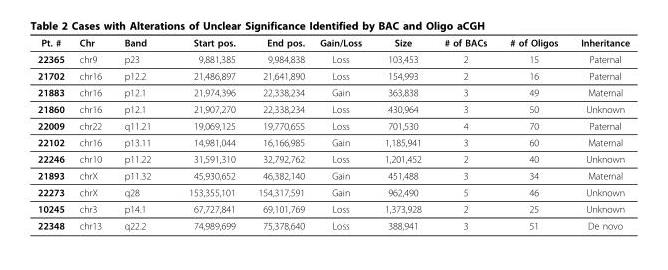table: (37, 36, 629, 230)
table column: (169, 36, 246, 230), (497, 36, 568, 230), (246, 36, 311, 230), (432, 36, 497, 230), (311, 36, 372, 230), (568, 36, 629, 230), (372, 36, 432, 230), (112, 36, 169, 230), (71, 36, 112, 230), (37, 36, 71, 230)
table column header: (37, 36, 629, 50)
table row: (37, 50, 629, 67), (37, 83, 629, 100), (37, 100, 629, 117), (37, 133, 629, 150), (37, 166, 629, 183), (37, 183, 629, 200), (37, 67, 629, 83), (37, 117, 629, 133), (37, 150, 629, 166), (37, 200, 629, 216), (37, 36, 629, 50), (37, 216, 629, 230)
